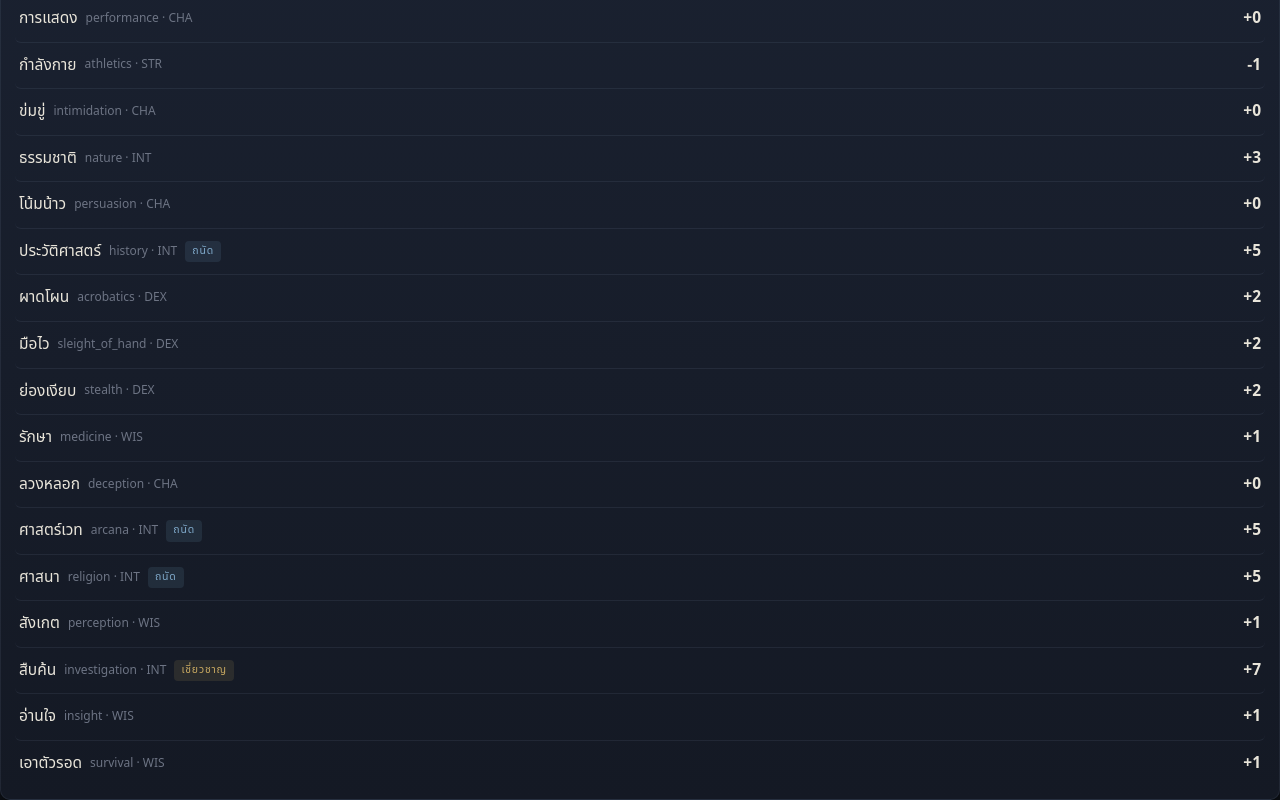
Scenario: Skills › opens a real backend breakdown for a skill
(page scrolled)
Click the button with aria-label "ศาสตร์เวท +5" at (51, 531), box left=15, top=508, right=1265, bottom=555
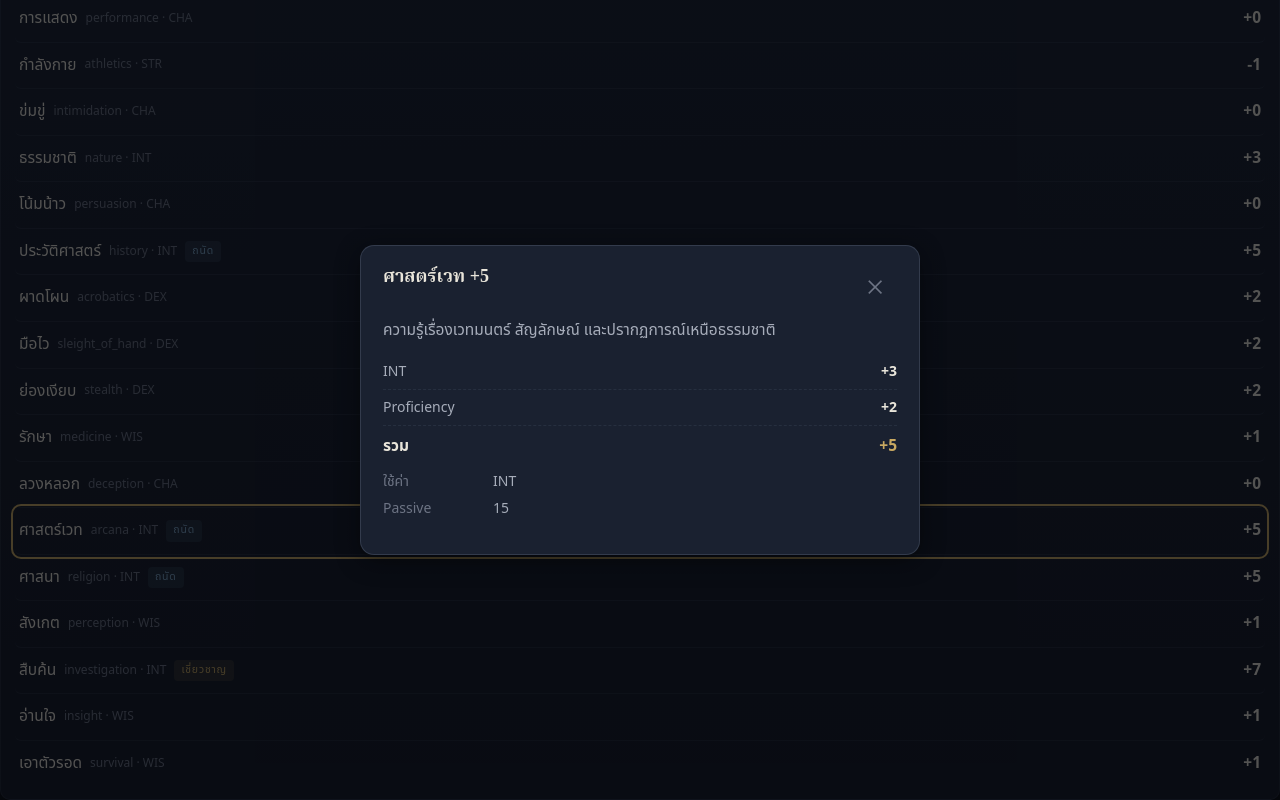
Expected: the dialog shows "INT", left=383, top=361, right=406, bottom=382
Expected: the dialog shows "Proficiency", left=383, top=397, right=455, bottom=418
Expected: the dialog shows "+5", left=879, top=435, right=897, bottom=458
